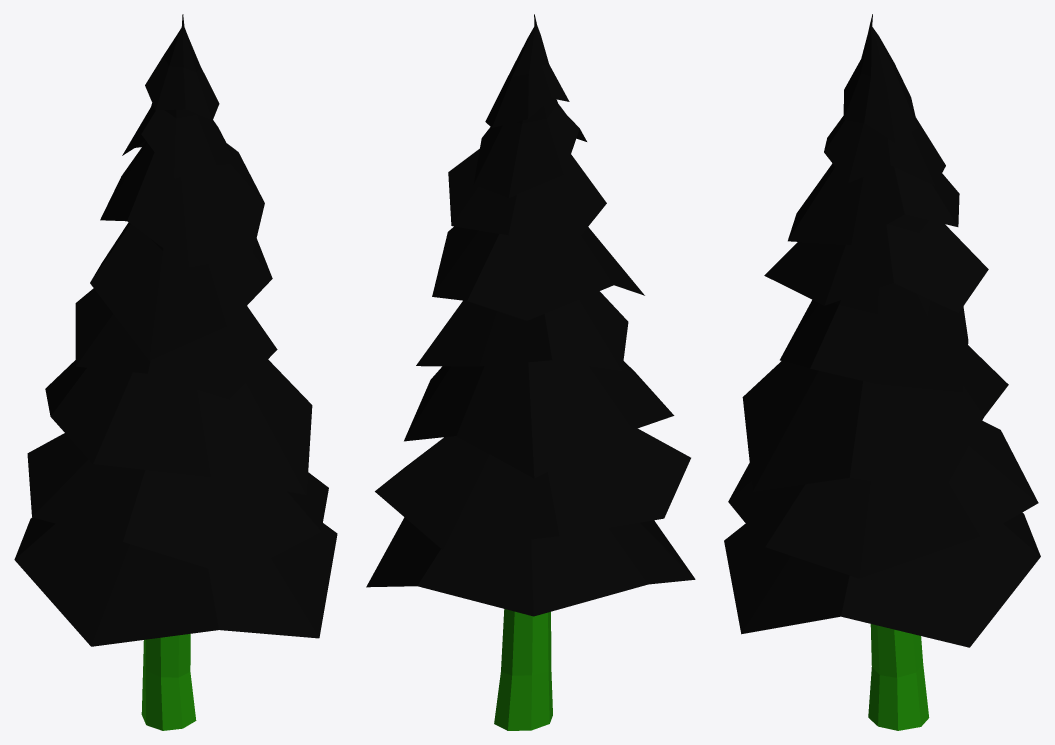
File: PineTree02_EM.fbx
3 views of the same model, side by side, from view 1: azimuth 30°, elevation 25°; view 2: azimuth 150°, elevation 25°; view 3: azimuth 270°, elevation 25° (orthographic). The views are drawn at different scales.
Visible parts, largest first — view 1: PineTree02_EM; view 2: PineTree02_EM; view 3: PineTree02_EM.
Part boxes in pixels (<box>): PineTree02_EM: <box>14,14,337,730</box>; PineTree02_EM: <box>366,14,695,730</box>; PineTree02_EM: <box>724,14,1040,730</box>.
Bounding box in the file's own units: 392 × 947 × 386.
